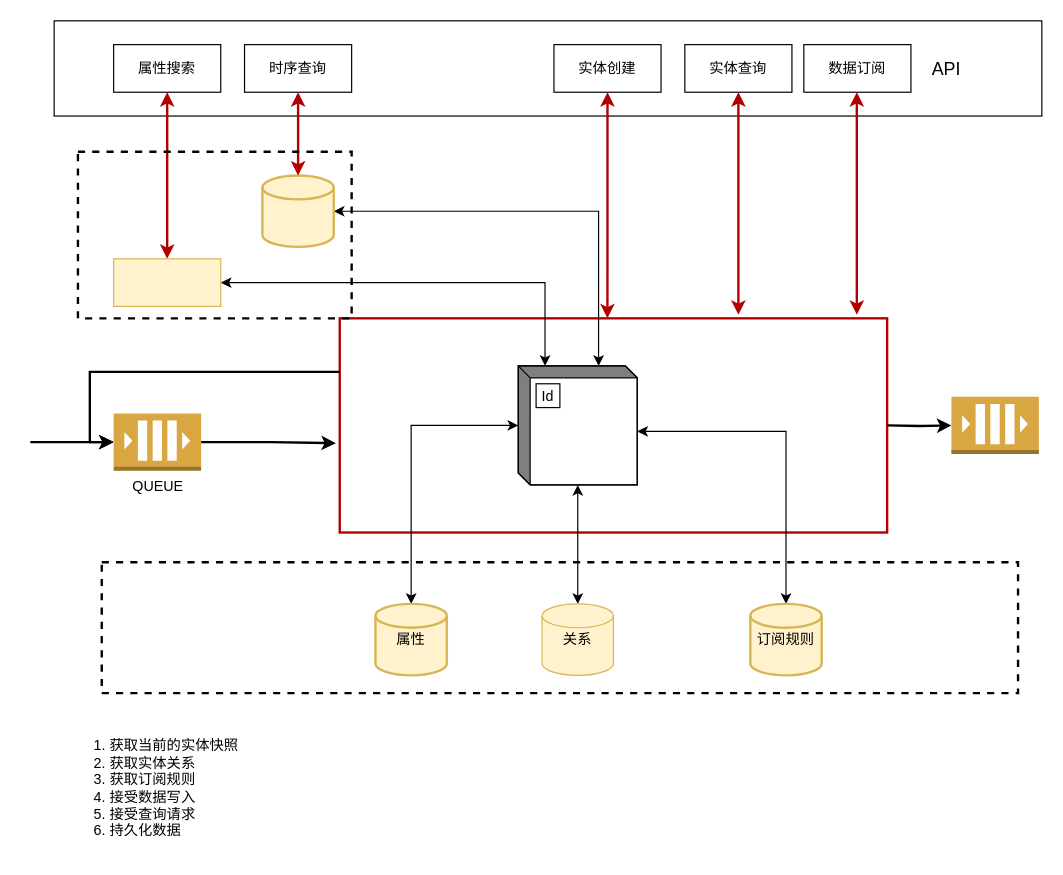
Image size: 1063x875. Some labels were removed from this diagram. The centre of each missing label's shape, as x and y in pixels:
Actor: point 577,425
搜索引擎: point 166,282
时序DB: point 297,211
订阅: point 994,425
